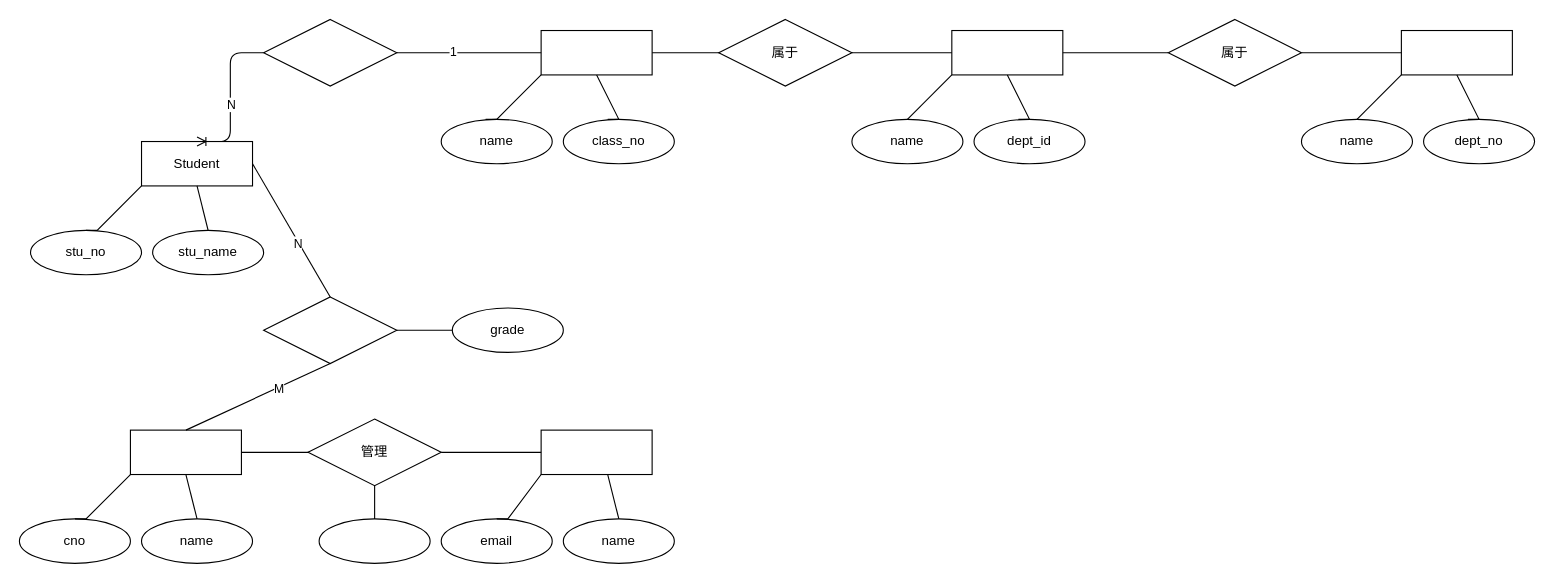
This 1554x583 diagram has some shape labels left out. Each missing label, with the box of its shape:
admin: (540, 429, 652, 475)
class: (540, 29, 652, 75)
course: (129, 429, 241, 475)
major: (951, 29, 1063, 75)
s_dept: (1400, 29, 1512, 75)
排课信息: (318, 518, 430, 563)
组成: (263, 18, 397, 86)
选课: (263, 296, 397, 364)
